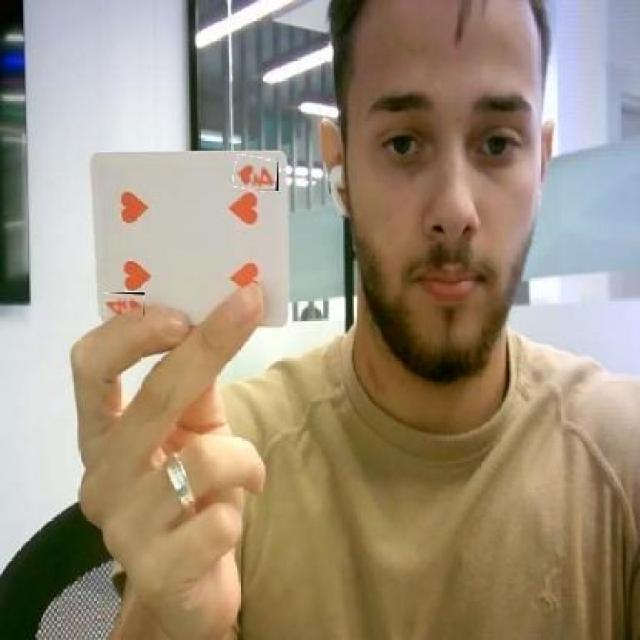4H: (234, 155, 278, 191), (104, 292, 144, 316)
